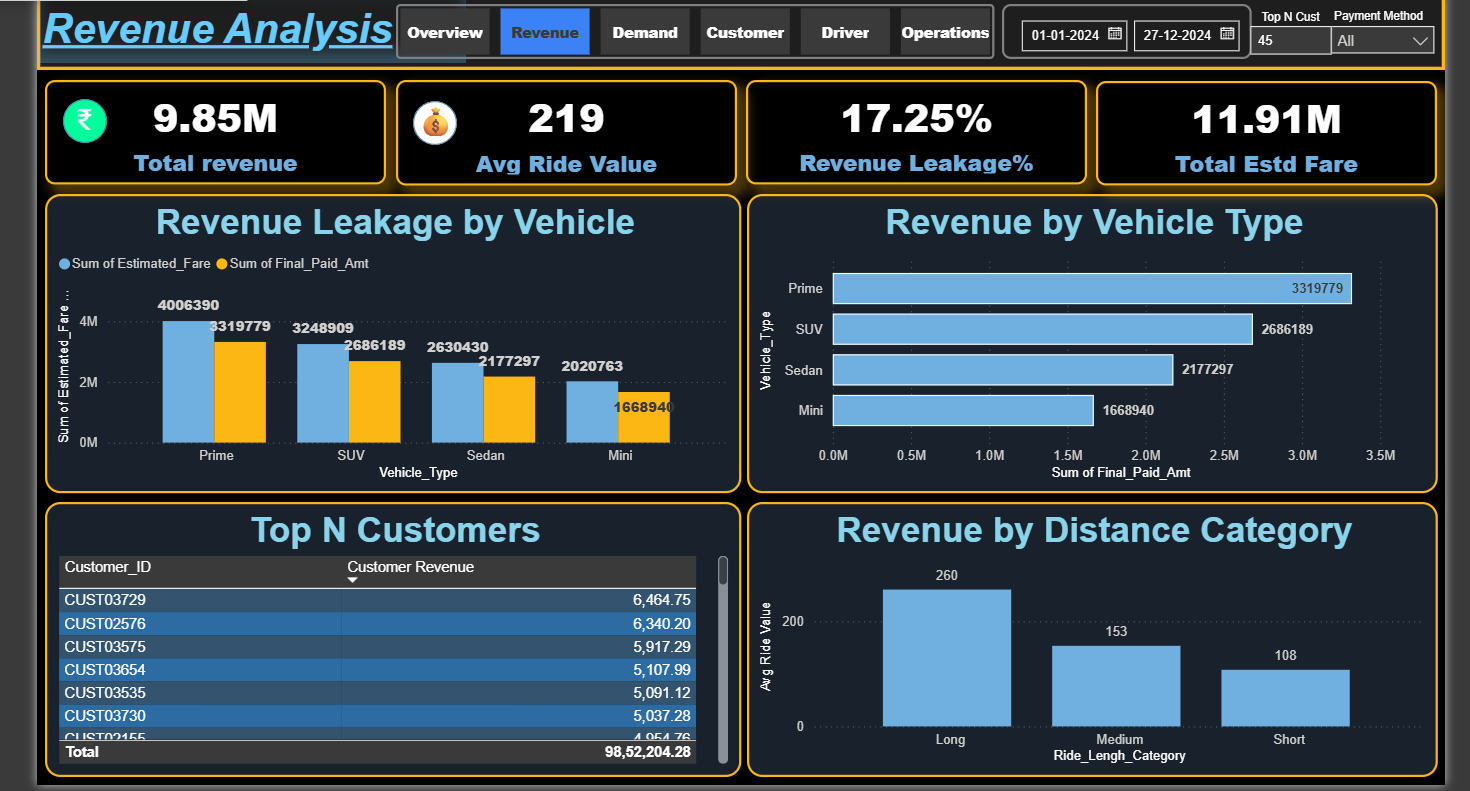

What the dashboard file says about the page in this screenshot:
{"tool":"powerbi","page":{"name":"Revenue","canvas":[1280,720],"ordinal":1},"visuals":[{"type":"card","title":"Total Revenue","fields":{"Values":["All Measures.Total revenue"]},"box":[7.3,79.1,310,95.5],"z":0},{"type":"card","title":"Total Rides","fields":{"Values":["All Measures.Rev_leak%"]},"box":[644.5,79.1,310,95.5],"z":1000},{"type":"card","title":"Avg Ride Value","fields":{"Values":["All Measures.Avg Ride Value"]},"box":[326.4,79.1,310,96.4],"z":2000},{"type":"tableEx","title":"Top N Customers","fields":{"Values":["Rides.Customer_ID","All Measures.Customer Rank"]},"box":[7,463,633,250],"z":3000},{"type":"clusteredColumnChart","title":"Revenue Leakage by Vehicle","fields":{"Category":["Rides.Vehicle_Type"],"Y":["Sum(Rides.Estimated_Fare)","Sum(Rides.Final_Paid_Amt)"]},"box":[7,183,633,272],"z":4000},{"type":"barChart","title":"Revenue by Vehicle Type","fields":{"Category":["Vehicles.Vehicle_Type"],"Y":["Sum(Rides.Final_Paid_Amt)"]},"box":[645,183,628,272],"z":5000},{"type":"shape","box":[0,0,1280,70],"z":6000},{"type":"slicer","fields":{"Values":["Rides.Booking_Timestamp"]},"box":[877,10,227,50],"z":7000},{"type":"textbox","box":[0,6.4,390,57.3],"z":8000},{"type":"pageNavigator","box":[326,10,544,50],"z":9000},{"type":"slicer","fields":{"Values":["Rides.Payment_Method"]},"box":[1166,20,114,66],"z":10000},{"type":"textbox","box":[1165,7,108,25],"z":11000},{"type":"group","id":"g1","title":"Group 1","box":[23.6,95.4,40,44.5],"z":12000},{"type":"group","id":"g2","title":"Group 4","box":[339.2,92.7,48.2,50.9],"z":13000},{"type":"card","title":"Total Rides","fields":{"Values":["All Measures.Revenue Per Ride"]},"box":[962.7,80,310,95.5],"z":14000},{"type":"columnChart","title":"Revenue by Distance Category","fields":{"Category":["Rides.Ride_Lengh_Category"],"Y":["All Measures.Avg Ride Value"]},"box":[645,463,628,250],"z":15000},{"type":"slicer","fields":{"Values":["TopN_Cust.TopN_Cust"]},"box":[1090,20,102,74],"z":16000},{"type":"textbox","box":[1108,8,66,27],"z":17000},{"type":"shape","box":[23.6,96,40,40],"z":17000,"group":"g1"},{"type":"shape","box":[341.9,98.1,40,40],"z":17000,"group":"g2"},{"type":"textbox","box":[339.2,92.7,48.2,50.9],"z":18000,"group":"g2"},{"type":"textbox","box":[30.7,95.4,28.2,44.5],"z":18000,"group":"g1"}]}

Visuals, with their boxes on the page's 1280x720 design canvas (x1, y1, x2, y2). These are canvas units, not pixel positions in the 1470x791 screenshot, which may show the page scaled, cropped or inside an application window:
"Total Revenue" card: bbox(7, 79, 317, 175)
"Total Rides" card: bbox(644, 79, 954, 175)
"Avg Ride Value" card: bbox(326, 79, 636, 176)
"Top N Customers" tableEx: bbox(7, 463, 640, 713)
"Revenue Leakage by Vehicle" clusteredColumnChart: bbox(7, 183, 640, 455)
"Revenue by Vehicle Type" barChart: bbox(645, 183, 1273, 455)
shape: bbox(0, 0, 1280, 70)
slicer - Rides.Booking_Timestamp: bbox(877, 10, 1104, 60)
textbox: bbox(0, 6, 390, 64)
pageNavigator: bbox(326, 10, 870, 60)
slicer - Rides.Payment_Method: bbox(1166, 20, 1280, 86)
textbox: bbox(1165, 7, 1273, 32)
"Group 1" group: bbox(24, 95, 64, 140)
"Group 4" group: bbox(339, 93, 387, 144)
"Total Rides" card: bbox(963, 80, 1273, 176)
"Revenue by Distance Category" columnChart: bbox(645, 463, 1273, 713)
slicer - TopN_Cust.TopN_Cust: bbox(1090, 20, 1192, 94)
textbox: bbox(1108, 8, 1174, 35)
shape: bbox(24, 96, 64, 136)
shape: bbox(342, 98, 382, 138)
textbox: bbox(339, 93, 387, 144)
textbox: bbox(31, 95, 59, 140)
